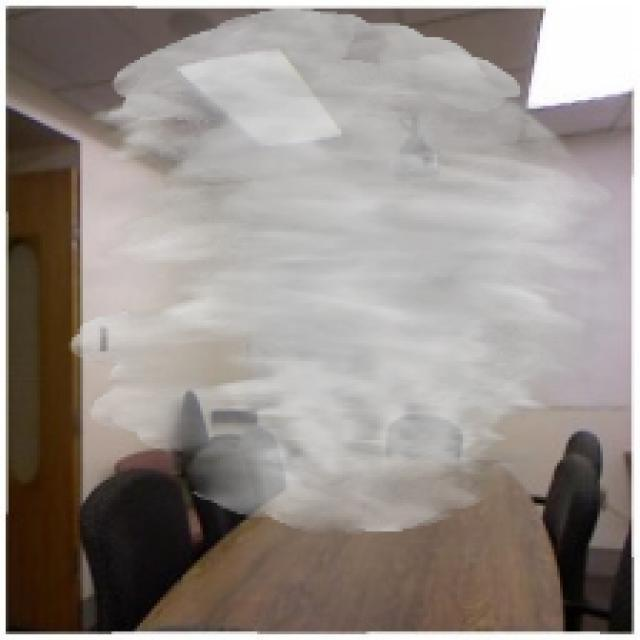Smoke: (68, 8, 623, 534)
